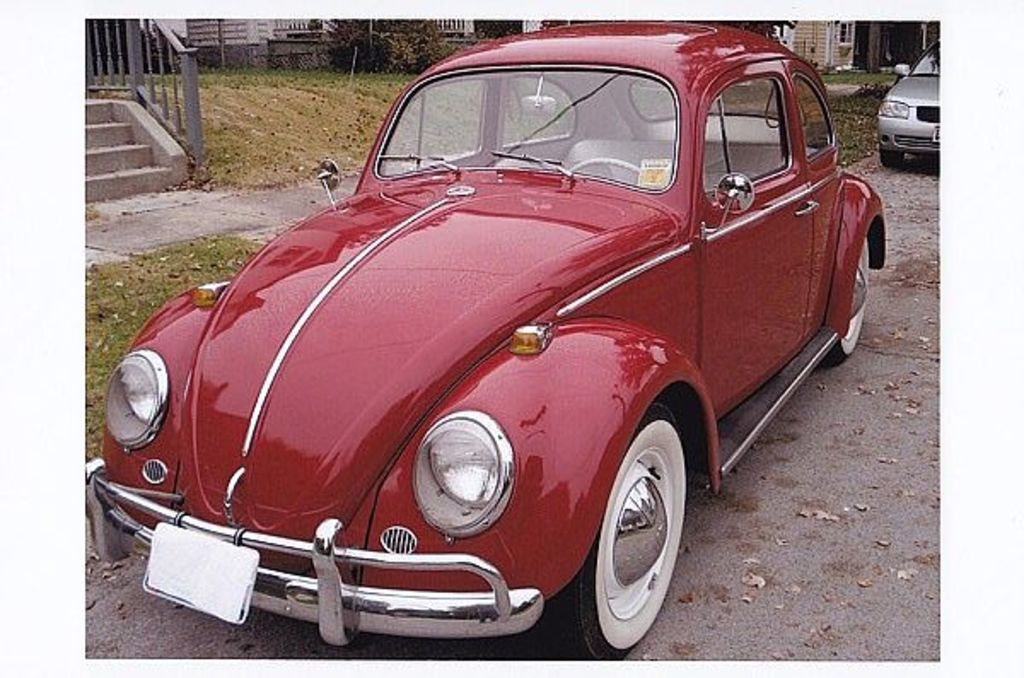Car: (93, 42, 894, 676), (875, 42, 938, 169)
